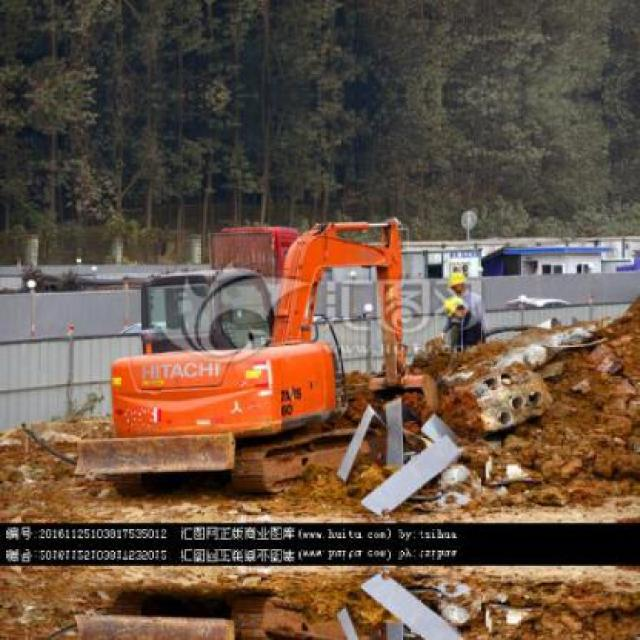helmet: (442, 295, 468, 323), (444, 264, 467, 293)
